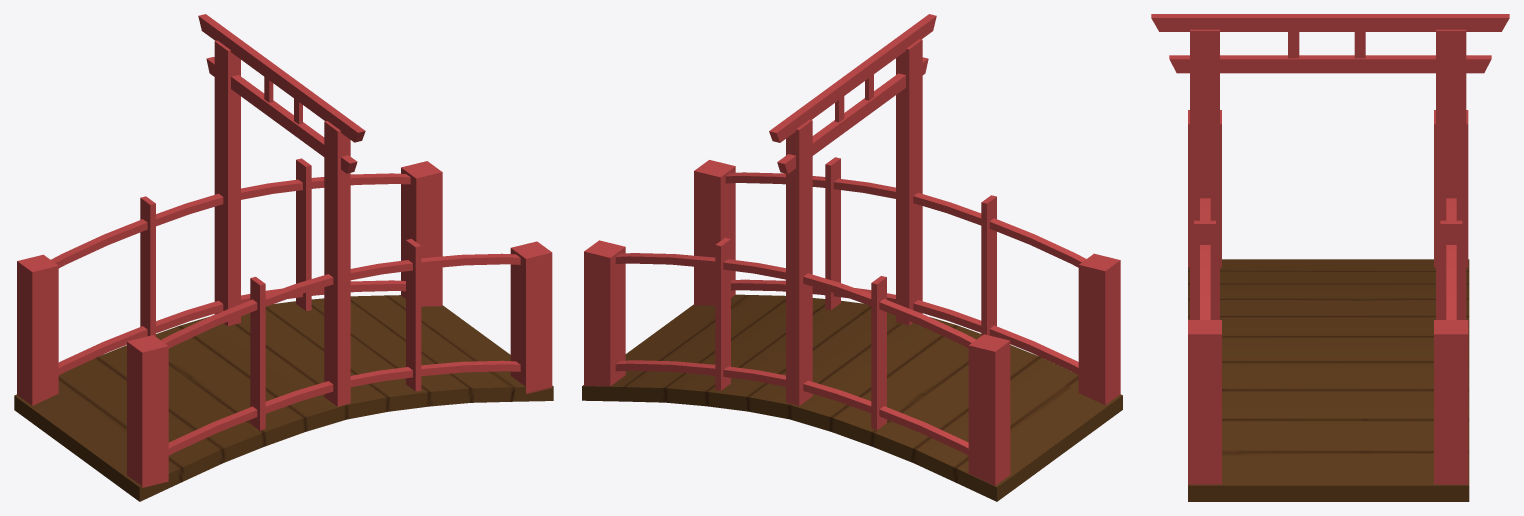
Rendered from Bridge 1.fbx.
3 renders of one model, left to right at view 1: azimuth 30°, elevation 25°; view 2: azimuth 150°, elevation 25°; view 3: azimuth 270°, elevation 25°, orthographic. The views are drawn at different scales.
Visible parts, largest first — view 1: Bridge_1_Asian; view 2: Bridge_1_Asian; view 3: Bridge_1_Asian.
Boxes of the visible parts, left/top/right/bottom form: Bridge_1_Asian: left=14, top=14, right=553, bottom=501; Bridge_1_Asian: left=582, top=14, right=1122, bottom=501; Bridge_1_Asian: left=1151, top=14, right=1509, bottom=501.
Size of the model in its own units: 957 by 733 by 640.
1 material, 1 textured.
